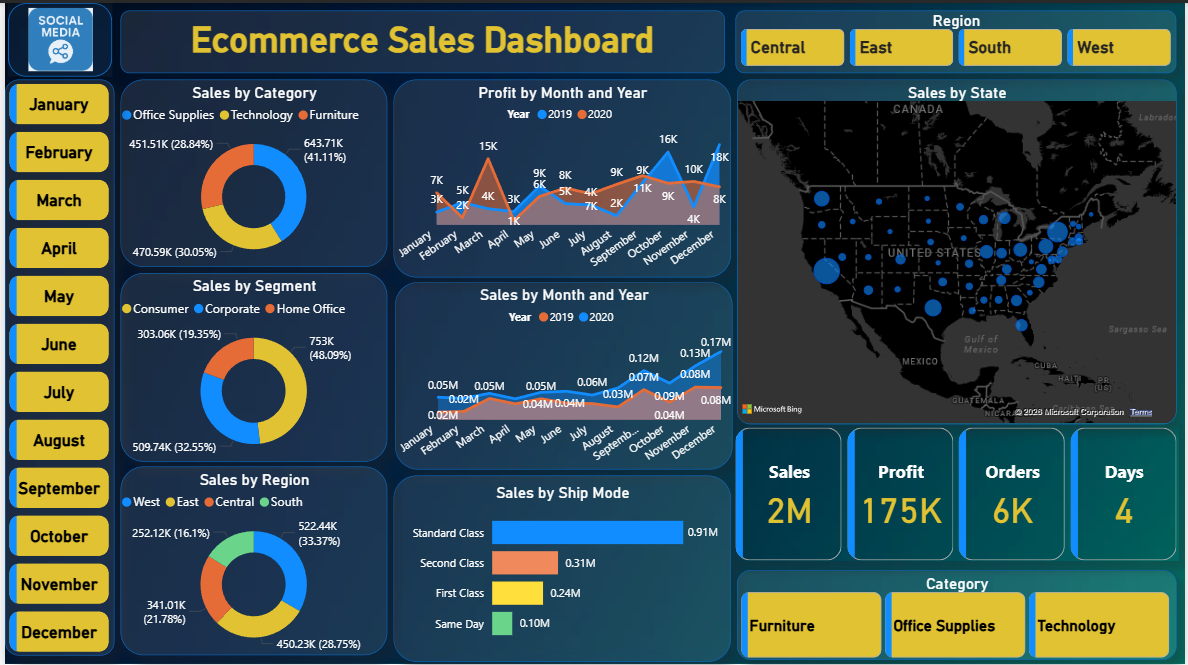

The dashboard page shown, as its layout file describes it:
{"tool":"powerbi","page":{"name":"Page 1","canvas":[1280,720],"ordinal":0},"visuals":[{"type":"areaChart","title":"Sales by Month and Year","fields":{"Category":["Superstore Sales.Order Date.Variation.Date Hierarchy.Month"],"Y":["Sum(Superstore Sales.Sales)"],"Series":["Superstore Sales.Order Date.Variation.Date Hierarchy.Year"]},"box":[422.9,302.5,366,203.3],"z":0},{"type":"clusteredBarChart","title":"Sales by Ship Mode","fields":{"Category":["Superstore Sales.Ship Mode"],"Y":["Sum(Superstore Sales.Sales)"]},"box":[421.3,512.4,366,201.7],"z":1000},{"type":"textbox","box":[125.2,8.1,655.5,68.3],"z":2000},{"type":"areaChart","title":"Profit by Month and Year","fields":{"Category":["Superstore Sales.Order Date.Variation.Date Hierarchy.Month"],"Y":["Sum(Superstore Sales.Profit)"],"Series":["Superstore Sales.Order Date.Variation.Date Hierarchy.Year"]},"box":[421.3,83,366,214.7],"z":3000},{"type":"donutChart","title":"Sales by Category","fields":{"Y":["Sum(Superstore Sales.Sales)"],"Category":["Superstore Sales.Category"]},"box":[125.2,83,289.5,203.3],"z":4000},{"type":"map","title":"Sales by State","fields":{"Category":["Superstore Sales.State"],"Size":["Sum(Superstore Sales.Sales)"]},"box":[793.8,83,476.6,374.1],"z":5000},{"type":"advancedSlicerVisual","fields":{"Values":["Superstore Sales.Region"]},"box":[792.1,8.1,478.2,68.3],"z":6000},{"type":"advancedSlicerVisual","fields":{"Values":["Superstore Sales.Order Date.Variation.Date Hierarchy.Month"]},"box":[0,83,118.7,624.6],"z":7000},{"type":"advancedSlicerVisual","fields":{"Values":["Superstore Sales.Category"]},"box":[793.8,614.8,476.6,97.6],"z":8000},{"type":"donutChart","title":"Sales by Segment","fields":{"Category":["Superstore Sales.Segment"],"Y":["Sum(Superstore Sales.Sales)"]},"box":[125.2,292.8,289.5,204.9],"z":9000},{"type":"donutChart","title":"Sales by Region","fields":{"Y":["Sum(Superstore Sales.Sales)"],"Category":["Superstore Sales.Region"]},"box":[125.2,502.6,289.5,204.9],"z":10000},{"type":"cardVisual","fields":{"Data":["Sum(Superstore Sales.Sales)","Sum(Superstore Sales.Profit)","CountNonNull(Superstore Sales.Order Date)","Avg(Superstore Sales.avgdelivery)"]},"box":[792.1,457.1,481.5,148],"z":11000},{"type":"image","box":[11.4,0,98,79],"z":12000},{"type":"shape","box":[3.3,0,113,80],"z":13000}]}

Visuals, with their boxes in screenshot pixels (x1, y1, x2, y2), scaled from the page's 1280x720 canvas onto the 1188x665 screenshot:
"Sales by Month and Year" areaChart: bbox=(393, 279, 732, 467)
"Sales by Ship Mode" clusteredBarChart: bbox=(391, 473, 731, 660)
textbox: bbox=(116, 7, 725, 71)
"Profit by Month and Year" areaChart: bbox=(391, 77, 731, 275)
"Sales by Category" donutChart: bbox=(116, 77, 385, 264)
"Sales by State" map: bbox=(737, 77, 1179, 422)
advancedSlicerVisual - Superstore Sales.Region: bbox=(735, 7, 1179, 71)
advancedSlicerVisual - Superstore Sales.Order Date.Variation.Date Hierarchy.Month: bbox=(0, 77, 110, 654)
advancedSlicerVisual - Superstore Sales.Category: bbox=(737, 568, 1179, 658)
"Sales by Segment" donutChart: bbox=(116, 270, 385, 460)
"Sales by Region" donutChart: bbox=(116, 464, 385, 653)
cardVisual - Sum(Superstore Sales.Sales) x Sum(Superstore Sales.Profit): bbox=(735, 422, 1182, 559)
image: bbox=(11, 0, 102, 73)
shape: bbox=(3, 0, 108, 74)
